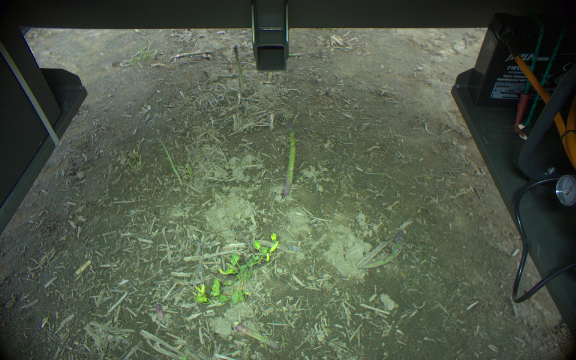aspa: (361, 229, 405, 271), (232, 320, 281, 351), (155, 138, 184, 186), (282, 131, 297, 202), (233, 44, 245, 96), (154, 303, 166, 327), (184, 160, 194, 181)
